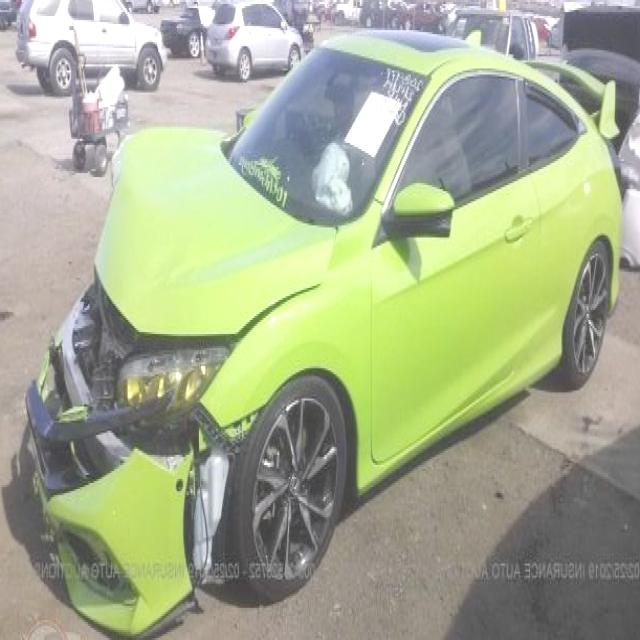green: (29, 23, 619, 640)
